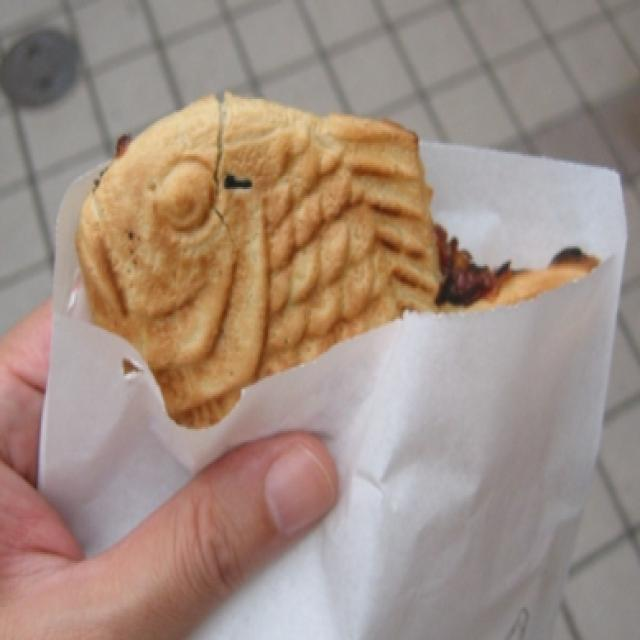熟制海鲜: (71, 79, 614, 433)
